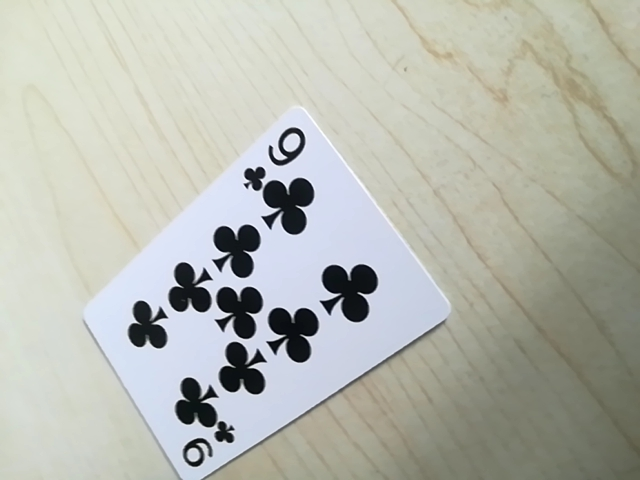mh 9: (245, 118, 312, 180), (170, 420, 238, 478)
